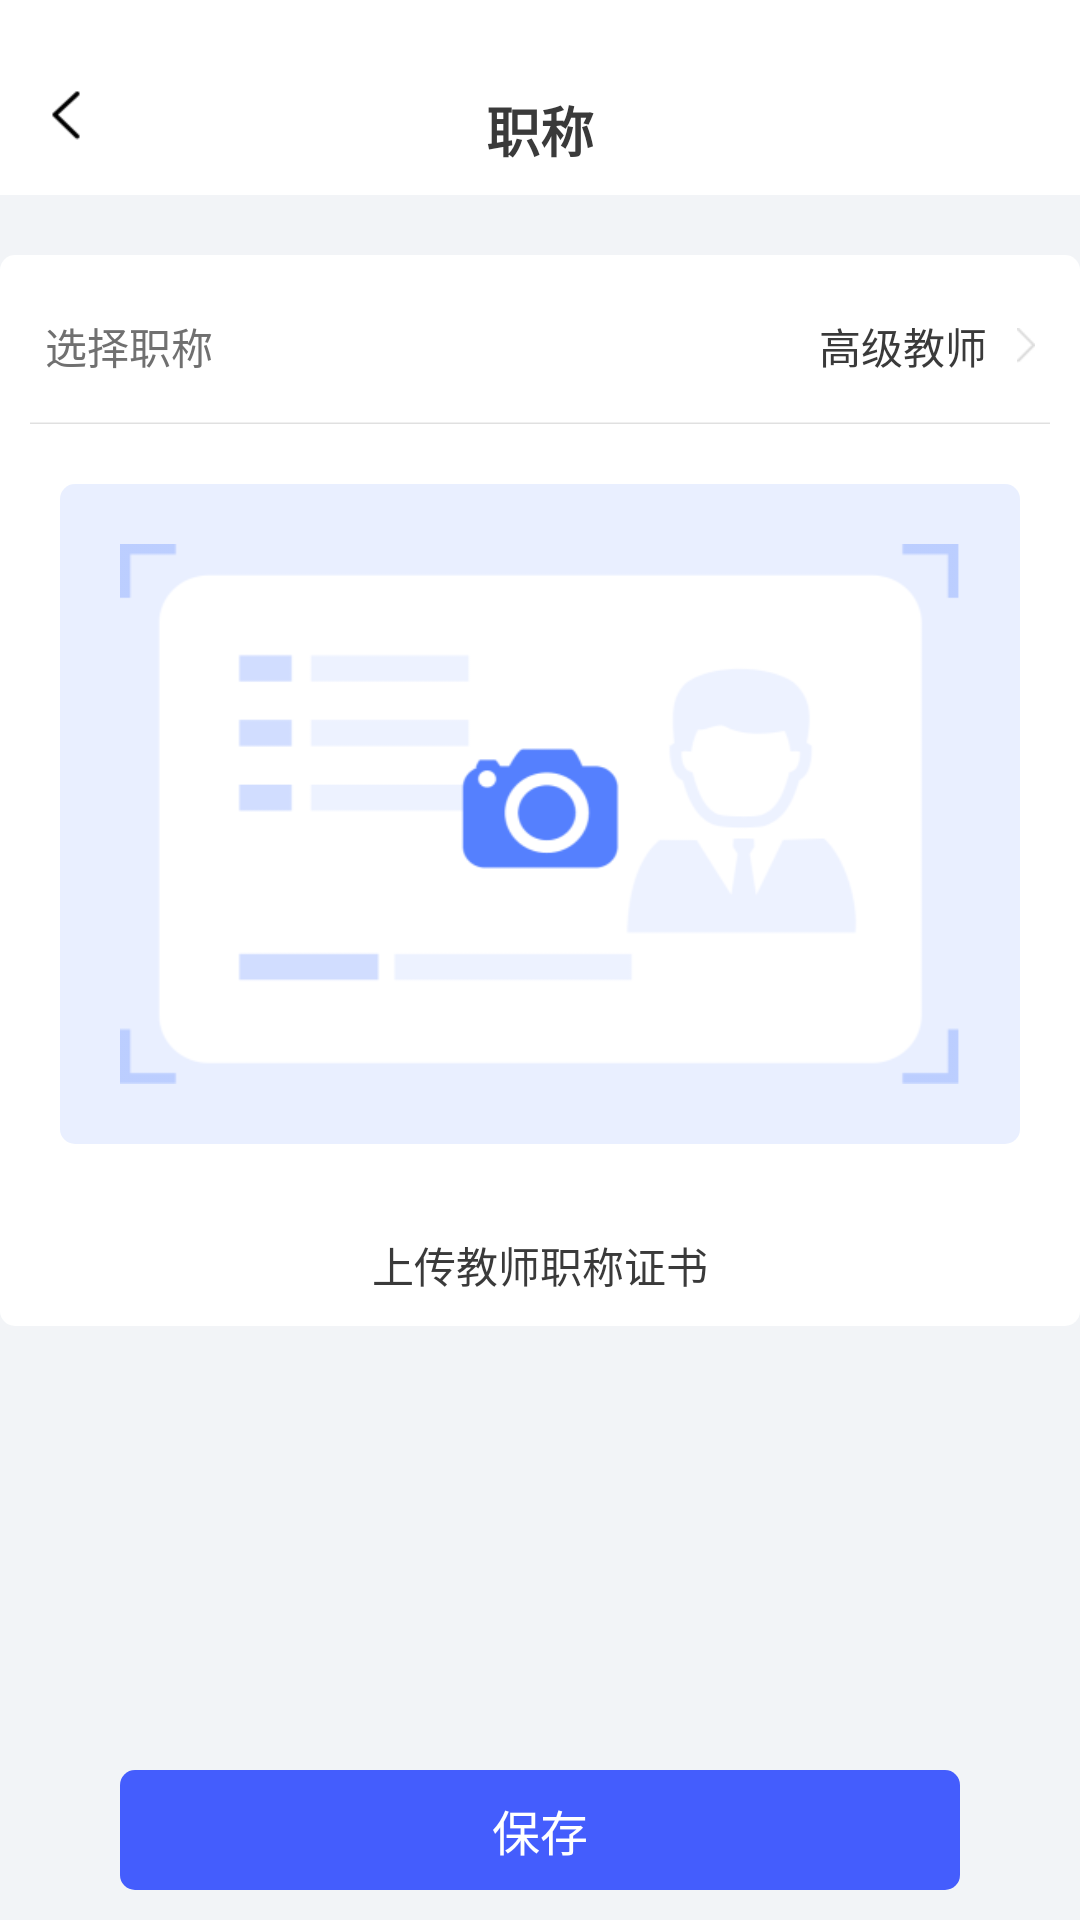

Where to tap for icons on this 1080x1920 app screen, as point (x, y):
left: point (66, 115)
